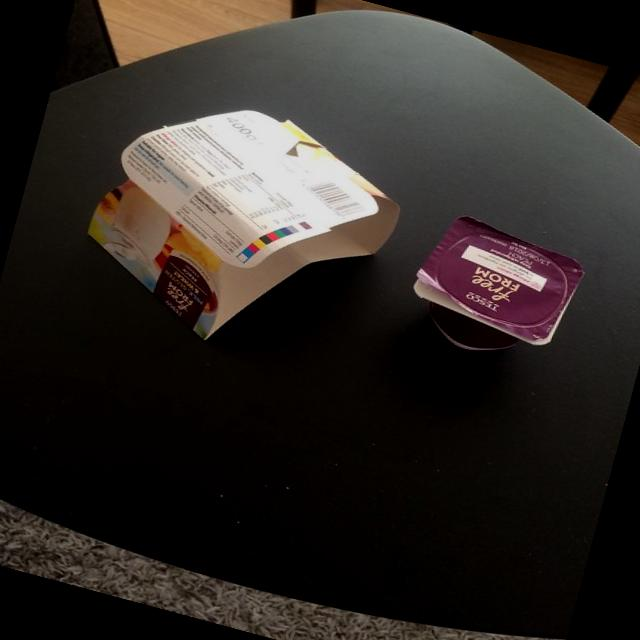Trash: (62, 69, 420, 383), (396, 202, 594, 378)
